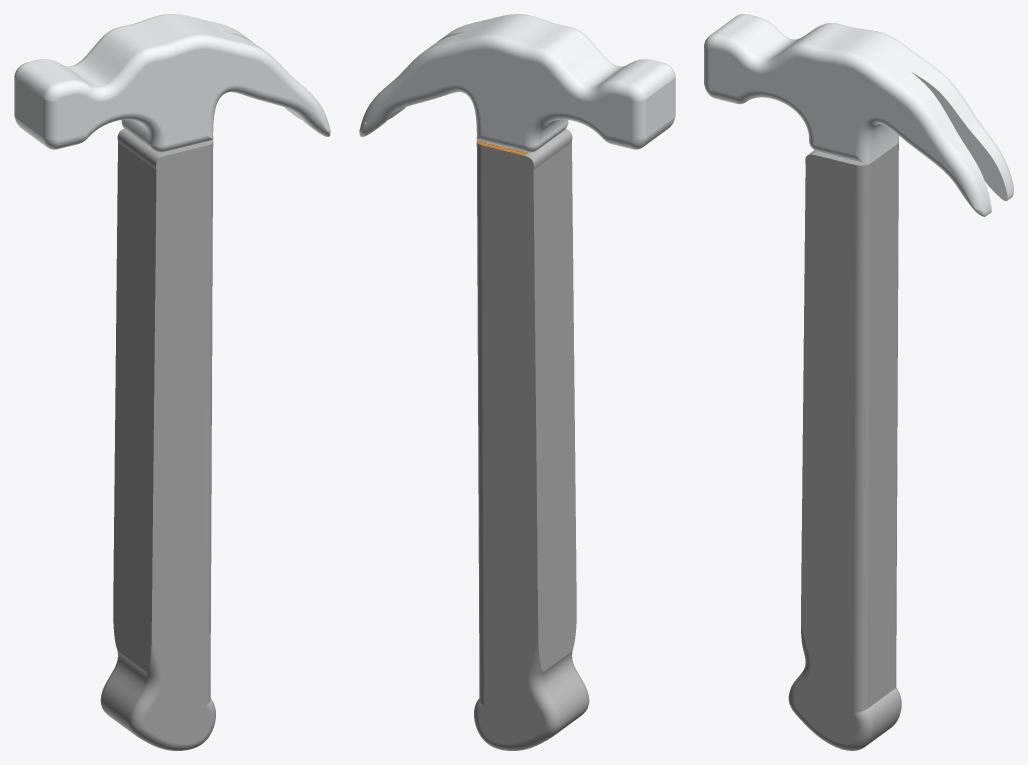
The model's file is hamer.glb.
The picture shows the model from 3 angles, left to right: view 1: azimuth 30°, elevation 25°; view 2: azimuth 150°, elevation 25°; view 3: azimuth 330°, elevation 25°; orthographic projection. The views are drawn at different scales.
Parts seen in each view (by area): view 1: hamer.SLDPRT; view 2: hamer.SLDPRT; view 3: hamer.SLDPRT.
Boxes of the visible parts, bbox=[...] form: hamer.SLDPRT: bbox=[14, 14, 330, 750]; hamer.SLDPRT: bbox=[359, 14, 675, 750]; hamer.SLDPRT: bbox=[704, 14, 1013, 750].
Bounding box in the file's own units: 0.0861 × 0.2044 × 0.02.
3 materials, 1 textured.
